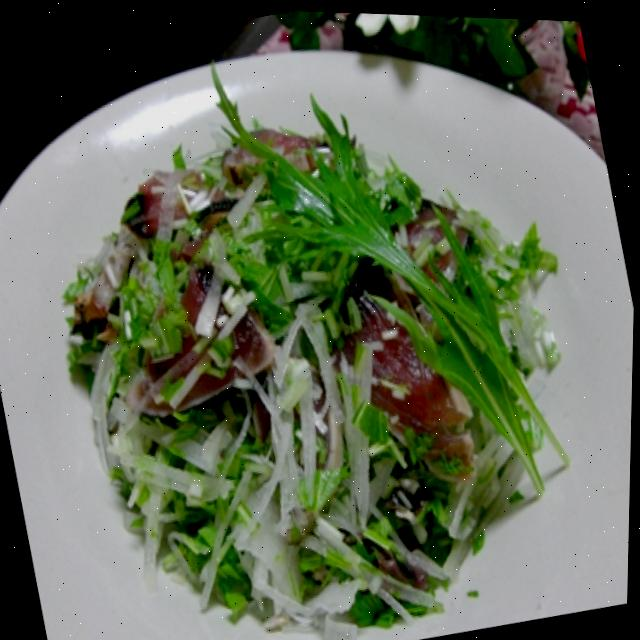熟制海鲜: (9, 35, 594, 583)
